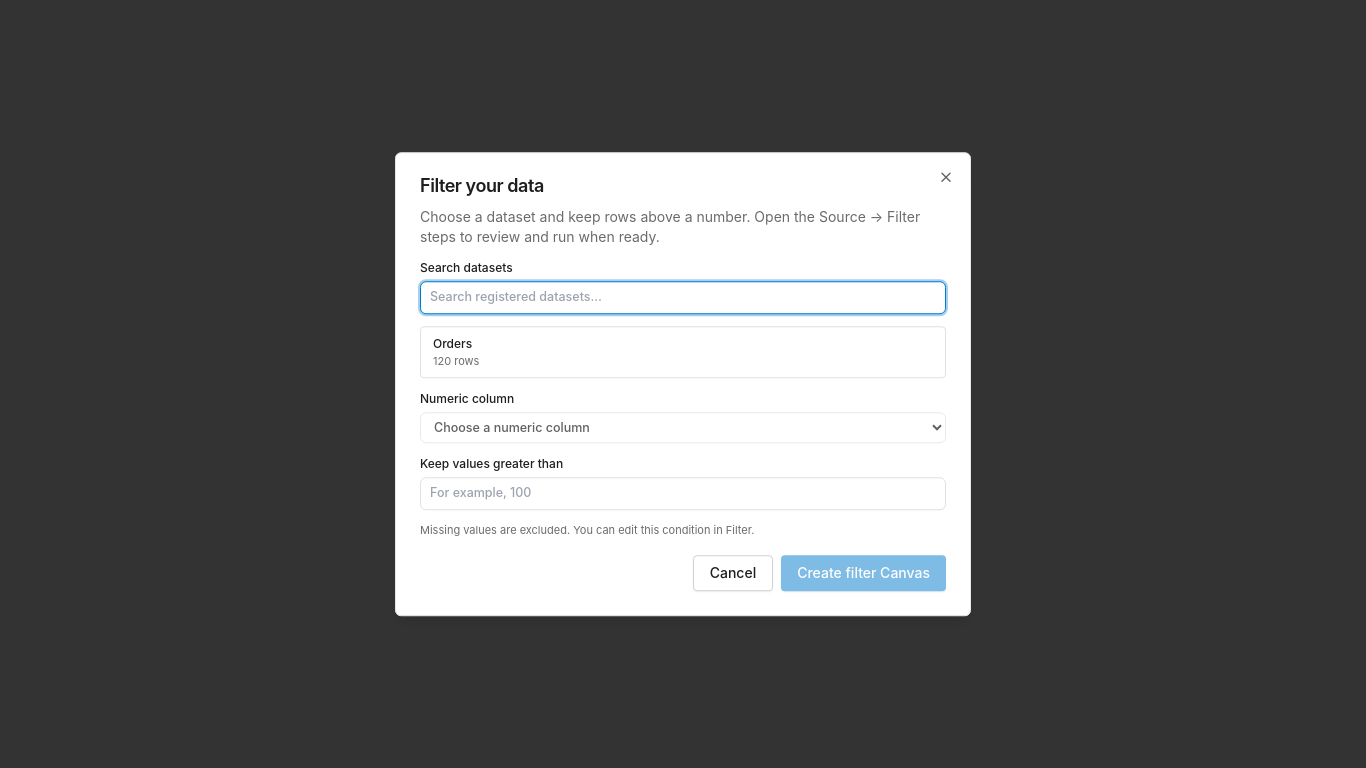
Test case: OwnDataStarterModal › keeps schema selection working under StrictMode and uses physical numeric types
The width and height of the screenshot is (1366, 768).
Step 1. Click the button with aria-label "Choose starter dataset Orders" → (453, 344), box [421,327,945,378]
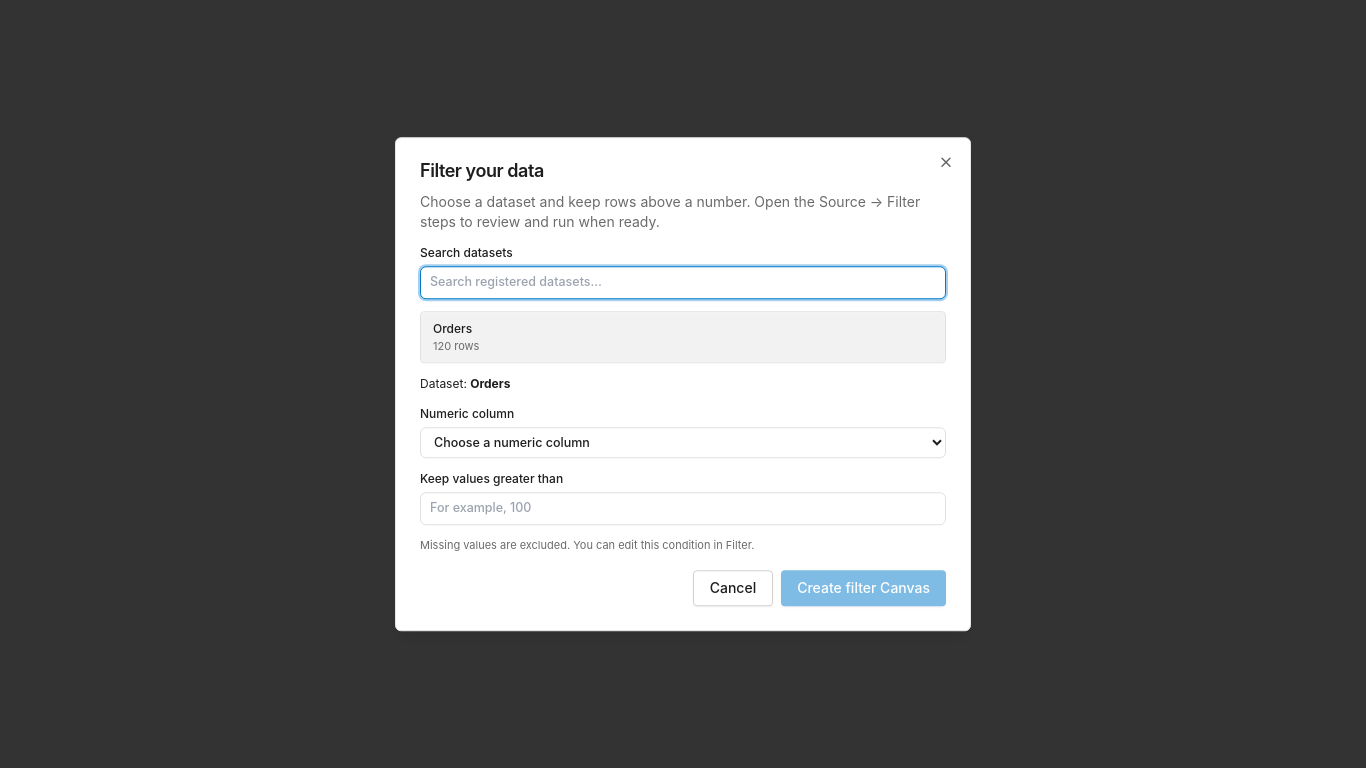
Expected: the dropdown named "Starter numeric column" is enabled, [420,428,946,458]
